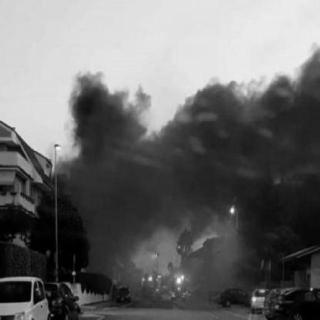Smoke: (64, 79, 318, 203)
other: (223, 202, 239, 218)
